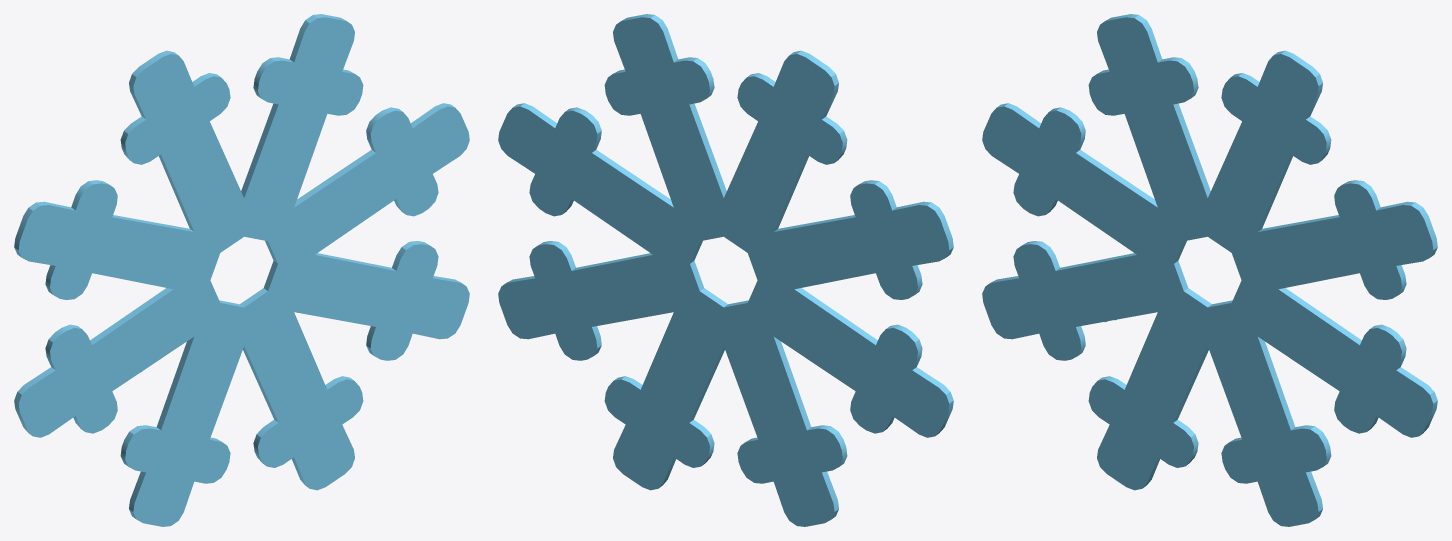
Rendered from snowflake.glb.
3 views of the same model, side by side, from view 1: azimuth 30°, elevation 25°; view 2: azimuth 150°, elevation 25°; view 3: azimuth 330°, elevation 25° (orthographic).
Visible parts, largest first — view 1: Circle.2127; view 2: Circle.2127; view 3: Circle.2127.
Part boxes in pixels (box(x1,y1,x2,y2)): Circle.2127: box(14, 14, 469, 526); Circle.2127: box(498, 14, 953, 526); Circle.2127: box(982, 14, 1437, 526).
Size of the model in its own units: 2.32 by 2.32 by 0.04.
1 material, 1 textured.
